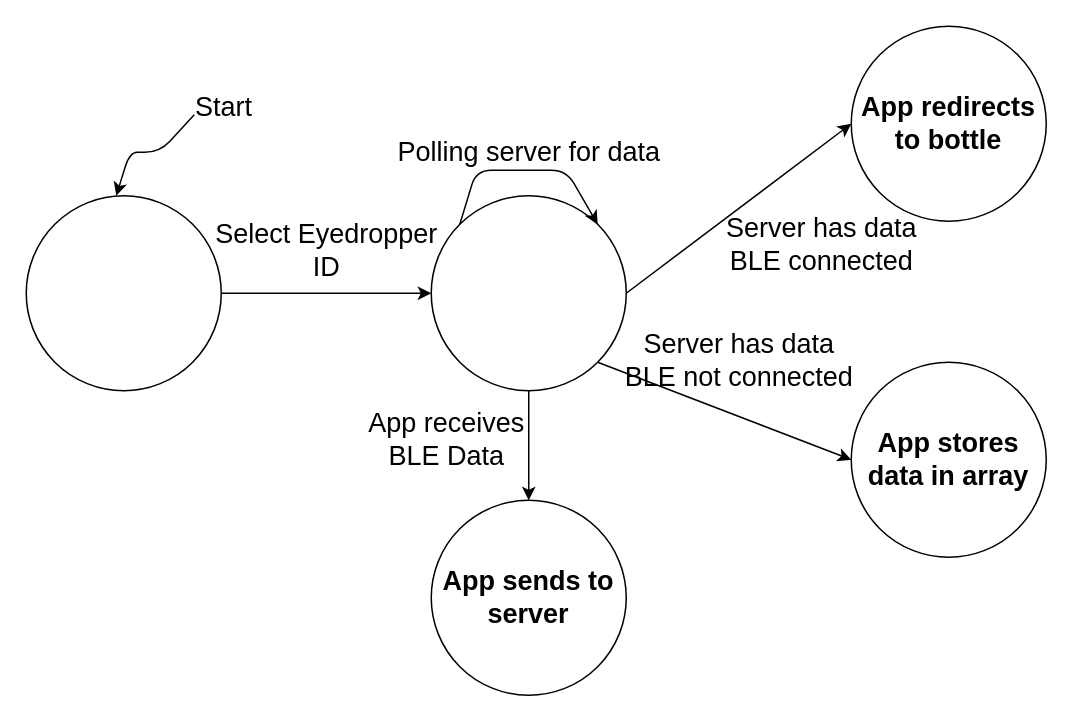
This 1073x722 diagram has some shape labels left out. Here are the shapes that lost their labels. From the top down, the box of each, then its label:
(25, 194, 221, 391): App Scan Page
(430, 194, 626, 391): Main Page
